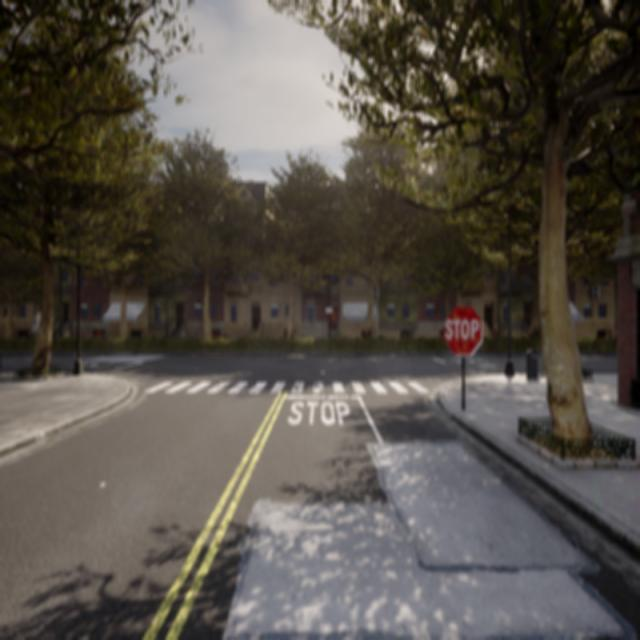stop sign: (441, 302, 485, 358), (444, 315, 480, 341)
